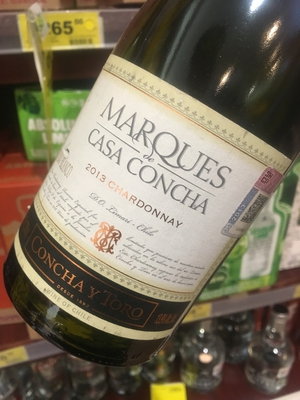marques de casa concha chardonnay: (13, 18, 297, 380)
